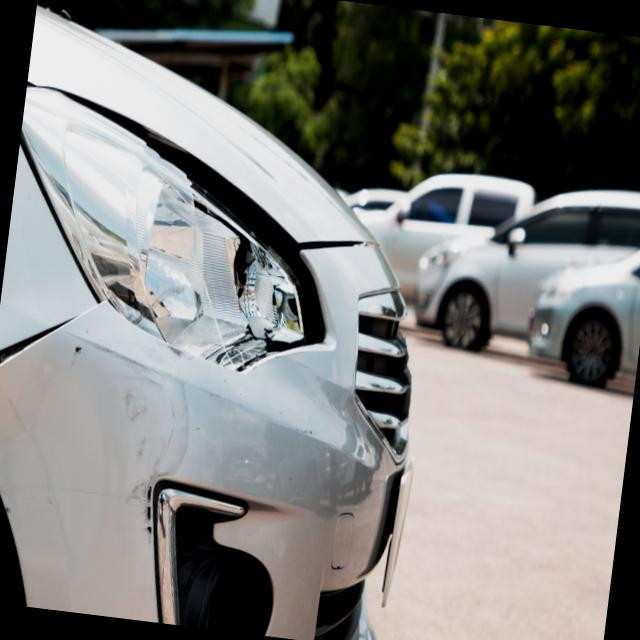Dechirure: (0, 297, 85, 444)
Phare abime: (147, 157, 328, 377)
Rayure: (42, 334, 195, 555)
